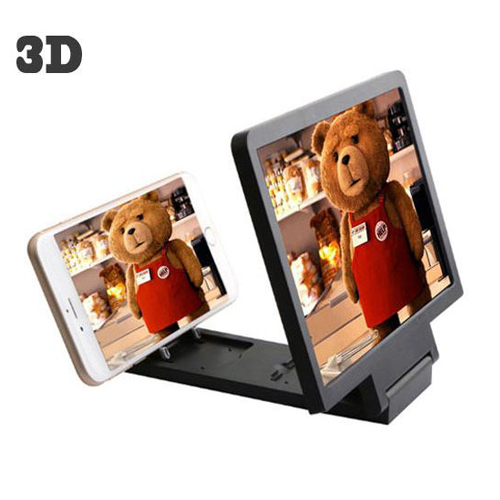Phone: (229, 68, 469, 418), (27, 169, 244, 388)
